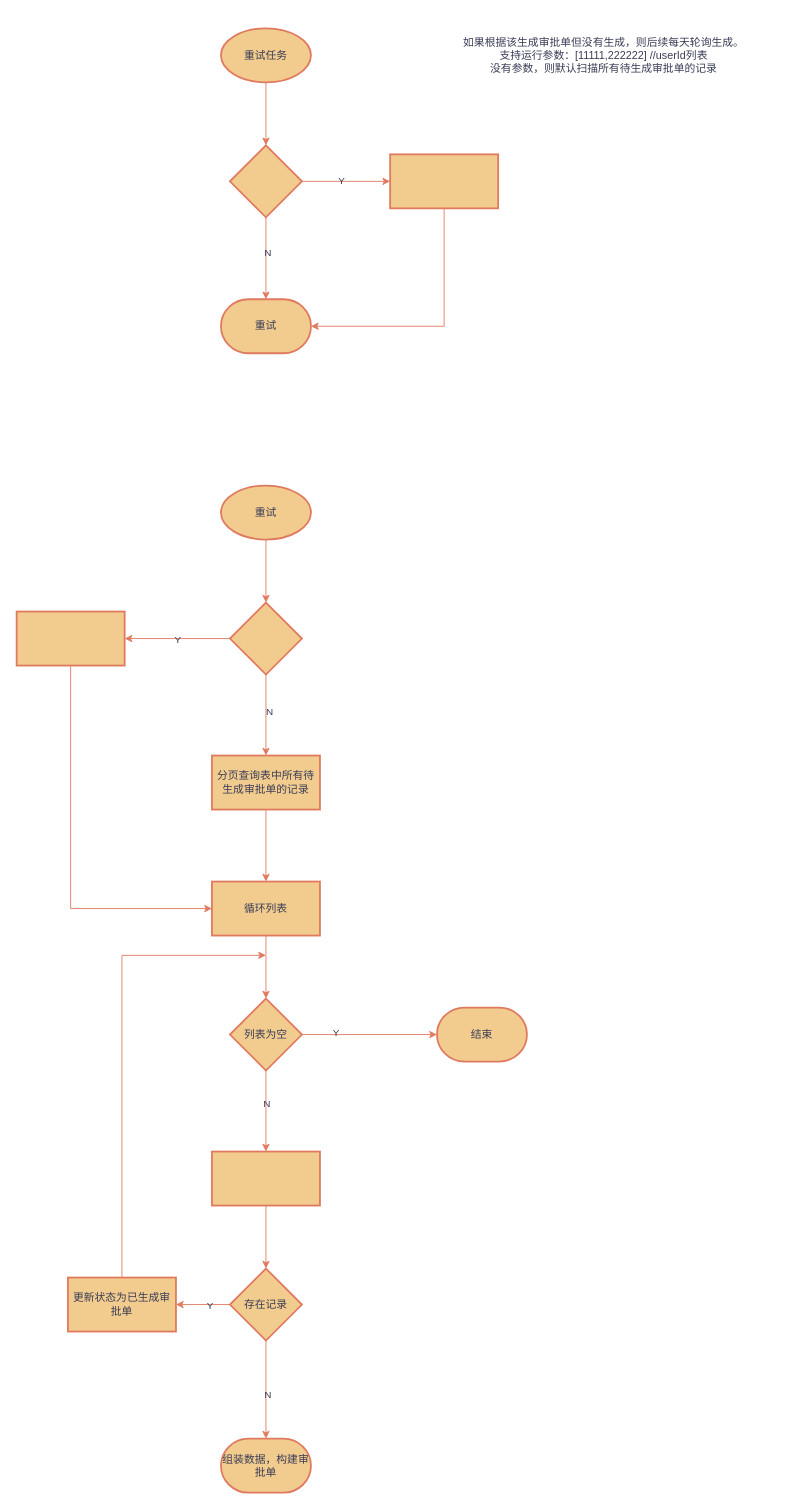
Image size: 794x1509. Some labels were removed from this diagram. The box of each missing label's shape, as (x1, y1, x2, y2) in pixels:
userIdList不为空: (229, 601, 302, 675)
先根据bizNo查询t_ekyc_manual_approve: (211, 1150, 320, 1206)
有运行参数: (229, 144, 302, 218)
根据userIldList扫描表中待生产审批单的记录: (15, 610, 125, 666)
获取参数转为userIdList: (389, 153, 499, 209)
